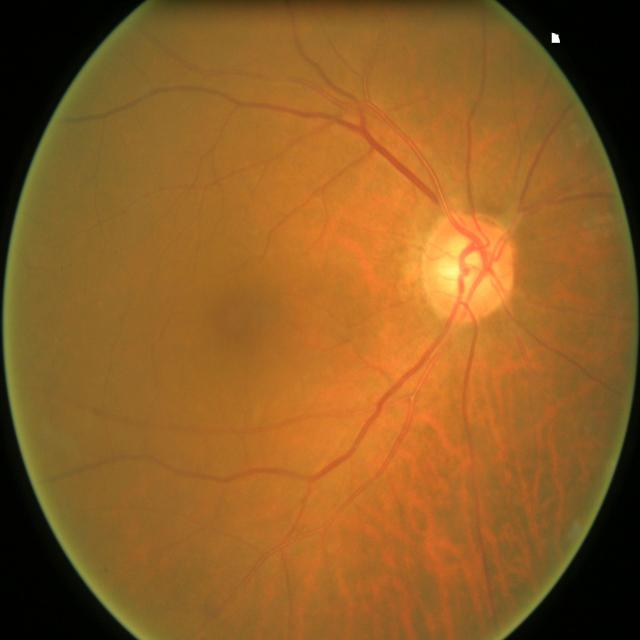OC: (436, 235, 494, 301)
OD: (423, 215, 518, 321)
